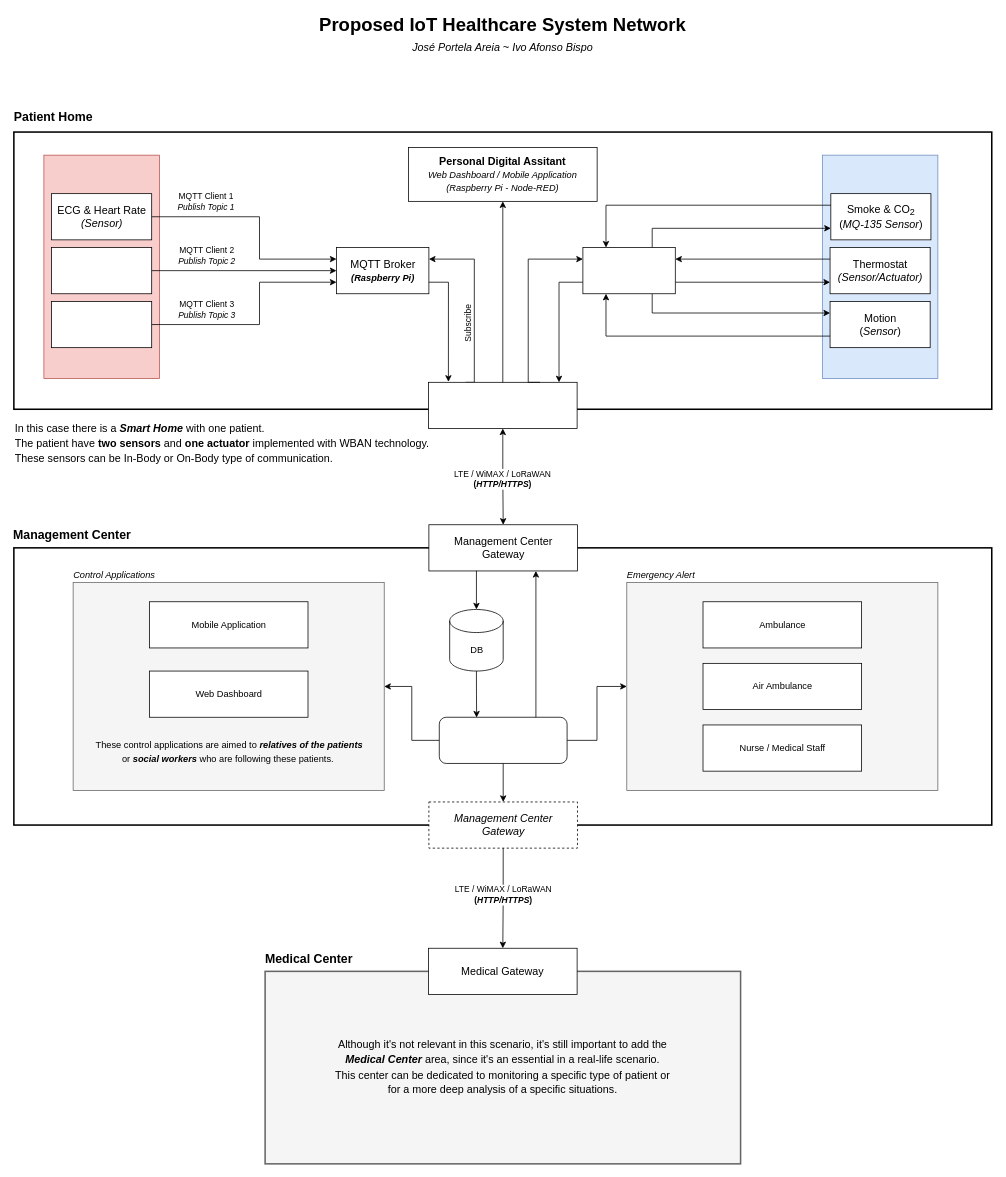
The diagram is 1006 pixels wide and 1177 high, and some of its shapes have lost their labels. The box of each missing label's shape, as (x1, y1, x2, y2) in pixels:
Analytics: (439, 716, 567, 763)
Breathing activity (Sensor): (51, 247, 152, 294)
CoAP Server (Raspberry Pi): (582, 247, 675, 294)
General Area (ESP8266/ESP32): (822, 154, 938, 378)
Home Gateway Built-in Manager & Agent: (428, 382, 577, 429)
Insulin Pump (Sensor/Actuator): (51, 301, 152, 348)
WBAN (Arduino YUN): (43, 154, 159, 378)
